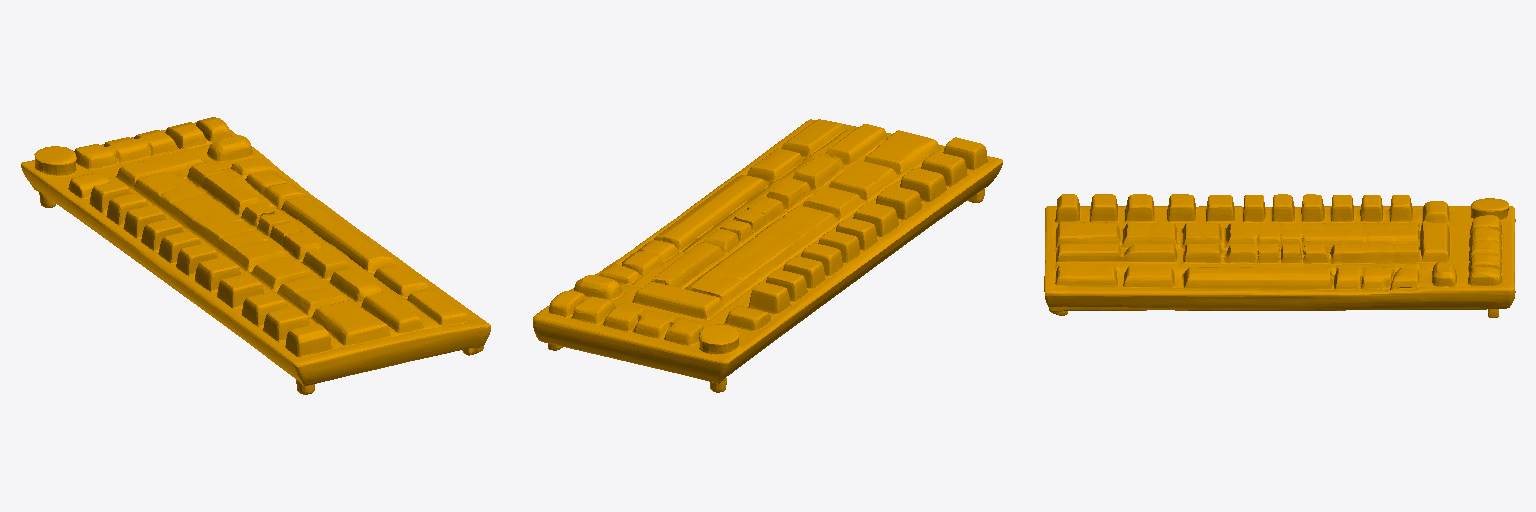
The robot description file, URDF, robot "sample":
<?xml version="1.0" ?>
<robot name="sample">
   <link name="sample">
      <visual>
         <origin xyz="0 0 0" rpy="1.5708 0.0 0.0"/>
         <geometry>
            <mesh filename="mesh/sample.obj" scale="1.0 1.0 1.0"/>
         </geometry>
      </visual>
      <collision>
         <origin xyz="0 0 0" rpy="1.5708 0.0 0.0"/>
         <geometry>
            <mesh filename="mesh/sample_collision.obj" scale="1.0 1.0 1.0"/>
         </geometry>
         <gazebo>
            <mu1>0.70</mu1>
            <mu2>0.55</mu2>
         </gazebo>
      </collision>
      <inertial>
         <mass value="1.0000"/>
         <origin xyz="0 0 0"/>
         <inertia ixx="1.0" ixy="0.0" ixz="0.0" iyy="1.0" iyz="0.0" izz="1.0"/>
      </inertial>
      <extra_info>
         <scale>0.420077</scale>
         <version>v0.1.7</version>
         <category>keyboard</category>
         <description>compact mechanical keyboard with beige keys and black base</description>
         <min_height>0.04</min_height>
         <max_height>0.06</max_height>
         <real_height>0.05</real_height>
         <min_mass>0.8</min_mass>
         <max_mass>1.2</max_mass>
         <color>grey</color>
         <rgba>[0.3, 0.3, 0.3, 1.0]</rgba>
         <generate_time>20260605111323</generate_time>
         <gs_model>mesh/sample_gs.ply</gs_model>
      </extra_info>
   </link>
   <custom_data>
      <quality>
         <MeshGeoChecker>YES</MeshGeoChecker>
         <ImageSegChecker>NO, keyboard is not centered, background artifacts present, and cable is missing.</ImageSegChecker>
         <ImageAestheticChecker>4.63459324836731</ImageAestheticChecker>
         <overall>NO</overall>
      </quality>
   </custom_data>
</robot>

--- What the picture shows (computed from the rendered views, not written in the file) ---
The picture shows the robot from 3 angles, left to right: view 1: azimuth 30°, elevation 25°; view 2: azimuth 150°, elevation 25°; view 3: azimuth 270°, elevation 25°; orthographic projection.
Robot: sample — 1 links, 0 joints (none); root link sample; default pose: every joint at zero.
Visible links, largest first — view 1: sample; view 2: sample; view 3: sample.
Link boxes in pixels (<box>): sample: <box>21,117,490,394</box>; sample: <box>533,119,1002,392</box>; sample: <box>1044,194,1515,317</box>.
Size in the robot's own frame: 0.172 by 0.4201 by 0.05 metres.
Meshes: 1 distinct files referenced, 1 mesh visuals loaded (1 OBJ).
